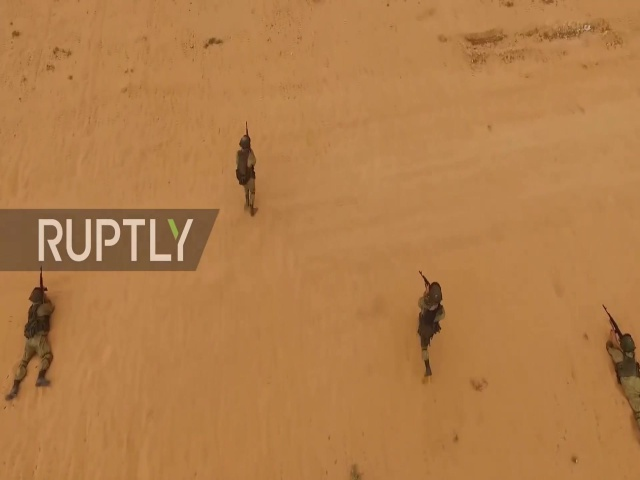person: (1, 272, 58, 407), (601, 301, 640, 419), (413, 271, 447, 381), (234, 125, 261, 217)
